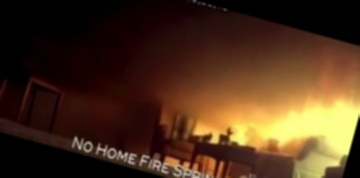fire: (216, 18, 360, 165)
